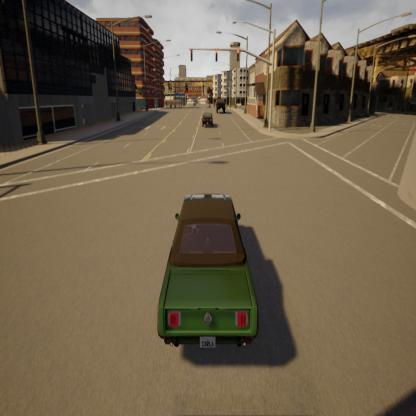Cars: (154, 181, 258, 361), (200, 111, 215, 133), (214, 92, 226, 116)
